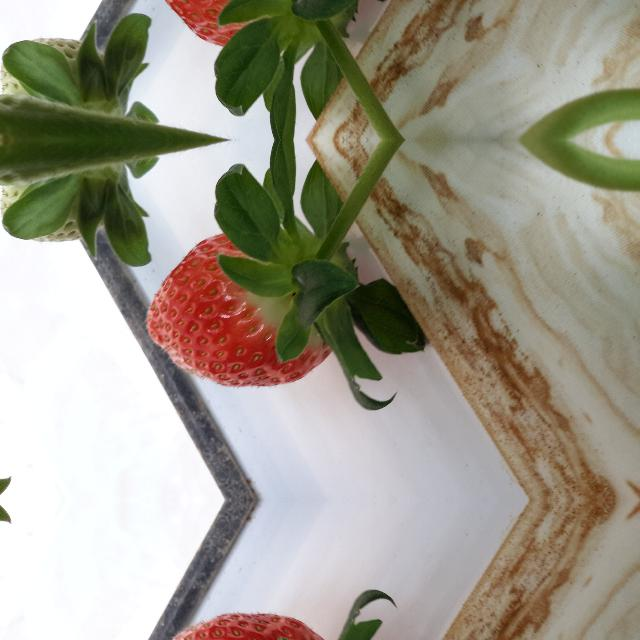Health_100: (145, 232, 335, 388), (145, 0, 335, 48)
